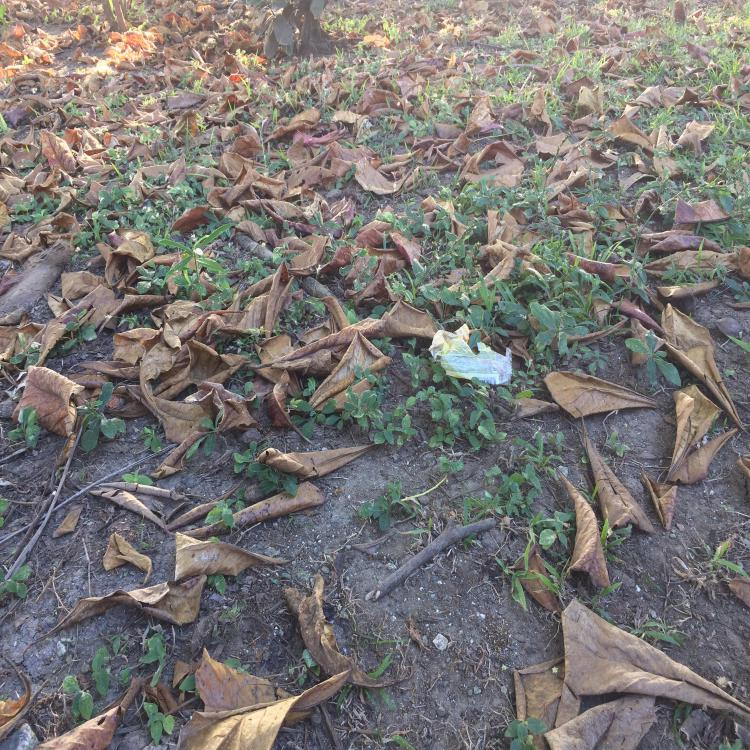Plastic film: (428, 323, 512, 386)
